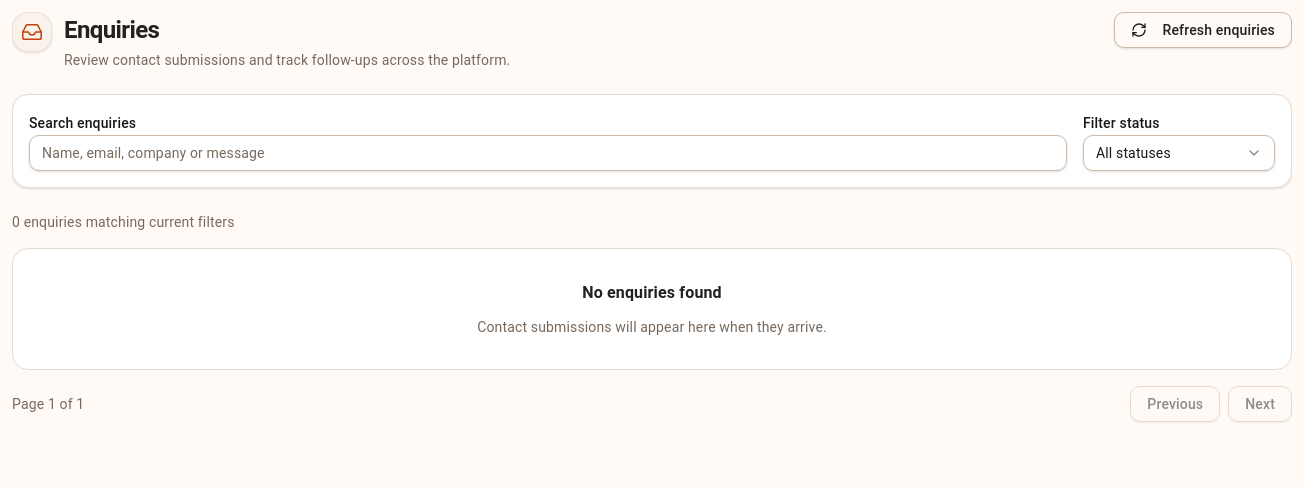
Scenario: AdminContacts › clears filters from an empty search result
The width and height of the screenshot is (1304, 487).
Expected: the heading "No enquiries found" is shown, top-left (582, 283), bottom-right (722, 302)
Type "missing" into the field labelled "Search enquiries" at (548, 153), box top-left (29, 135), bottom-right (1067, 171)
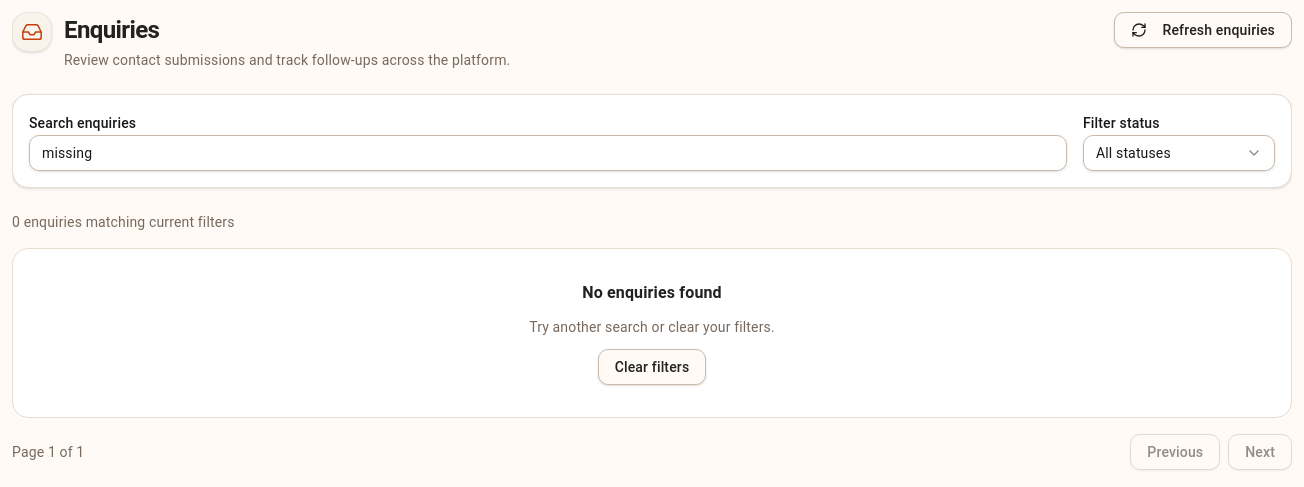
Click the button "Clear filters" at (652, 367), box top-left (598, 349), bottom-right (706, 385)
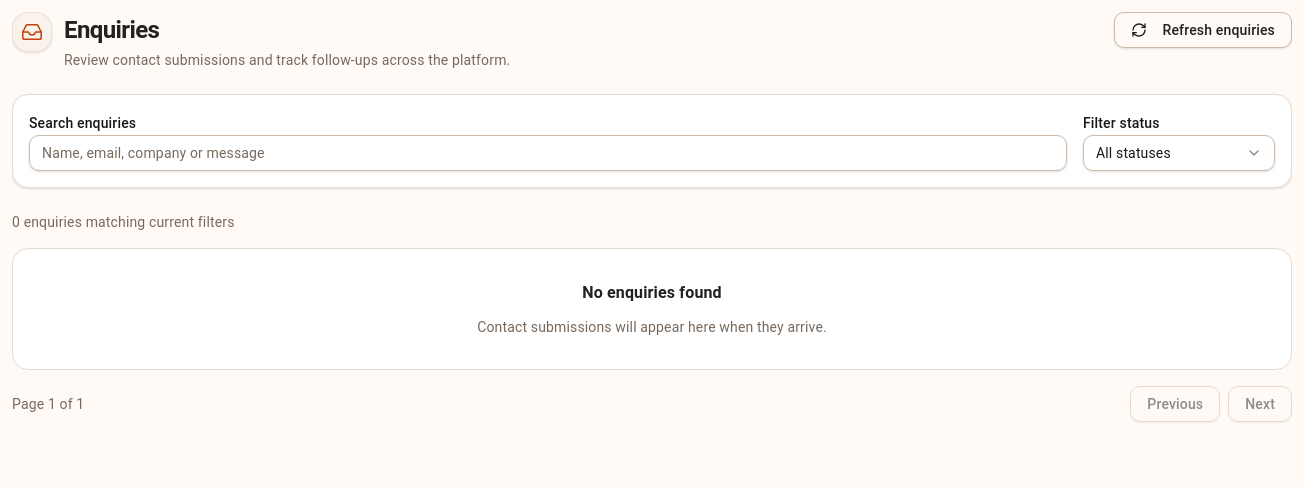
Expected: the field labelled "Search enquiries" is empty, top-left (29, 135), bottom-right (1067, 171)
